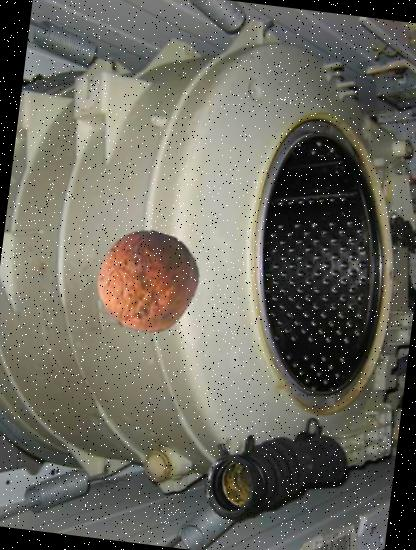Walnut: (89, 224, 204, 340)
